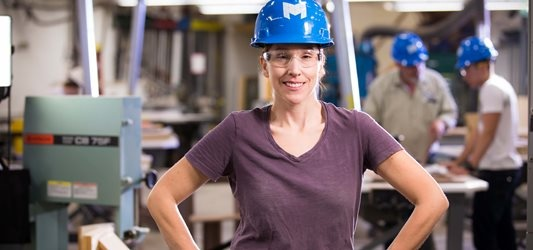blue: (248, 1, 335, 104), (451, 33, 497, 87), (389, 31, 428, 85)
